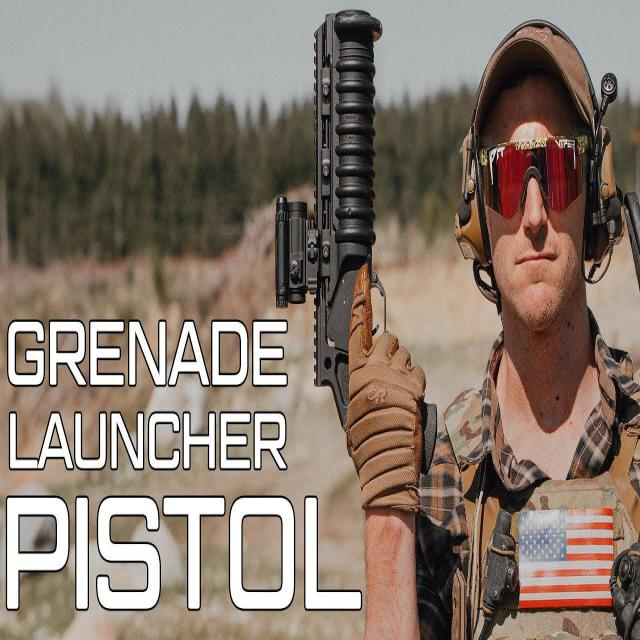weapon: (274, 8, 444, 480)
